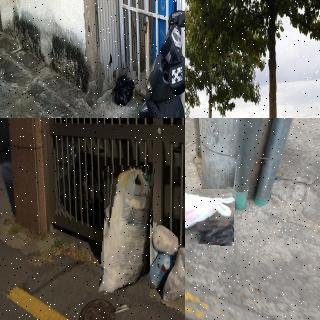Garbage: (101, 165, 153, 296), (185, 187, 235, 244), (145, 247, 173, 290), (152, 221, 180, 256), (167, 244, 185, 298), (112, 71, 136, 109)
